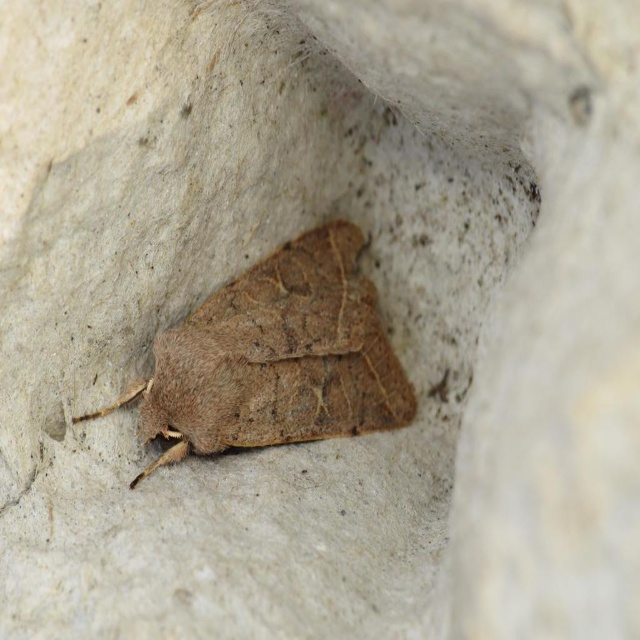Moths and butterflies: (71, 221, 423, 495)
